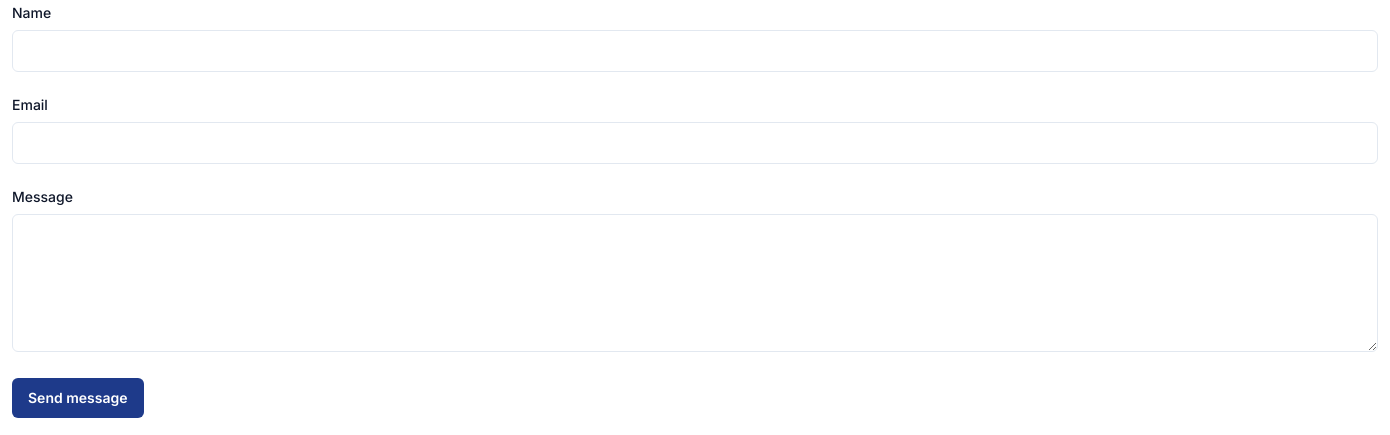
ContactForm › submits and shows the success state
In the field labelled "Name": {"x": 695, "y": 51} [12,30,1378,72], type "Ana"
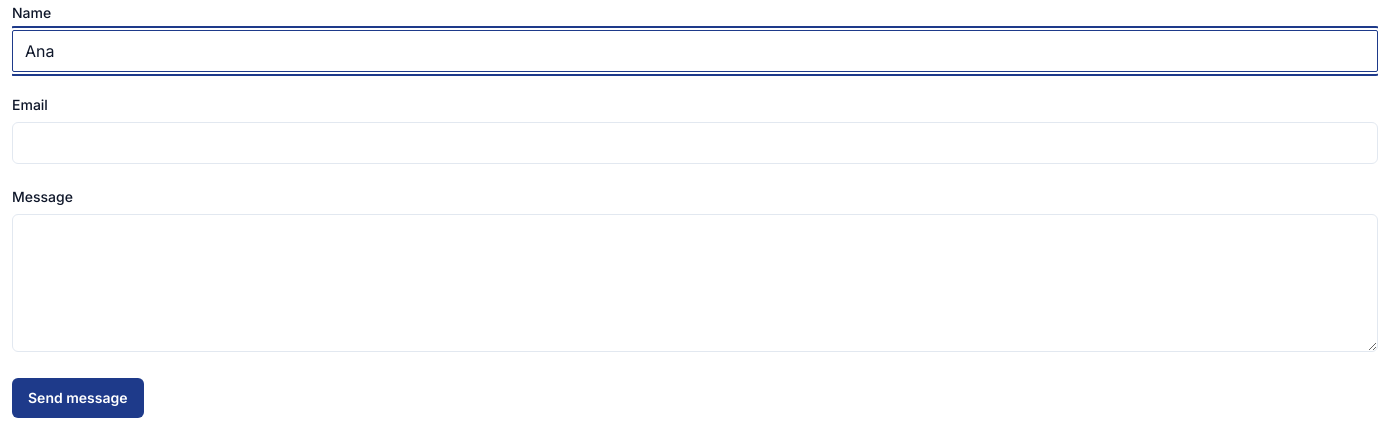
In the field labelled "Email": {"x": 695, "y": 143} [12,122,1378,164], type "ana@example.com"
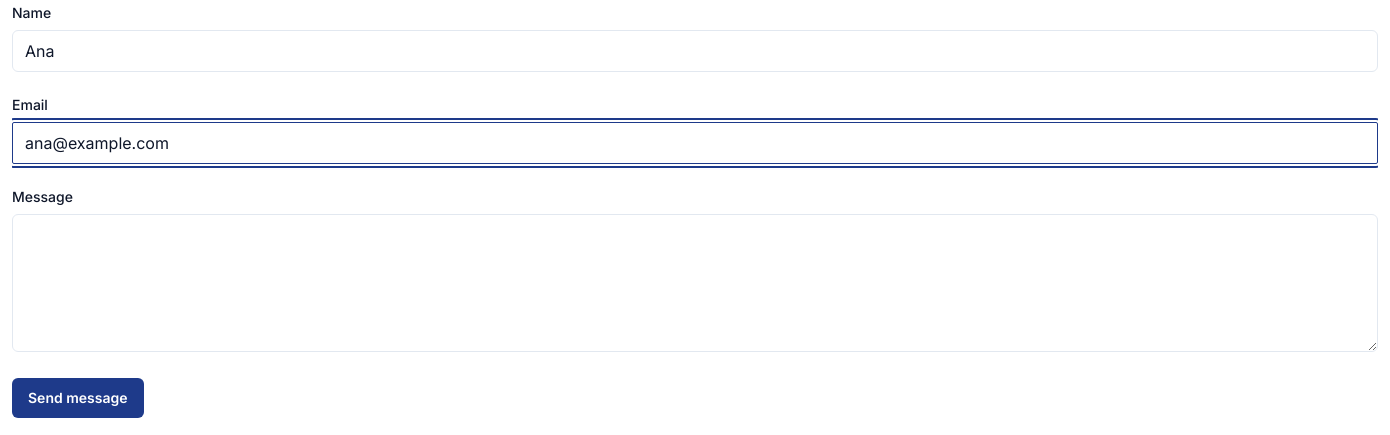
In the text box labelled "Message": {"x": 695, "y": 283} [12,214,1378,352], type "Hello, I have a platform role for you."
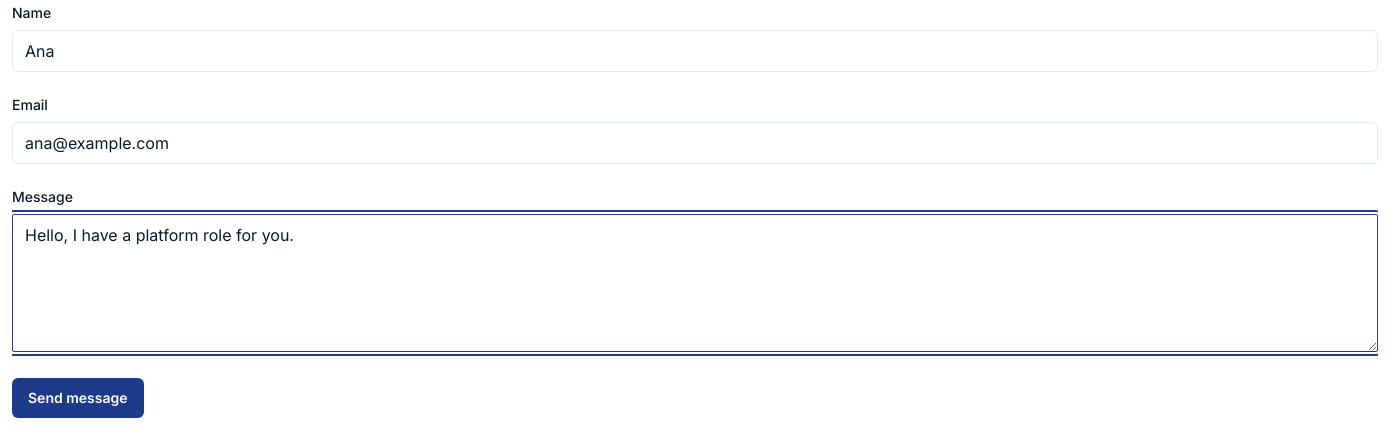
Click the button "Send message": {"x": 78, "y": 398} [12,378,144,418]
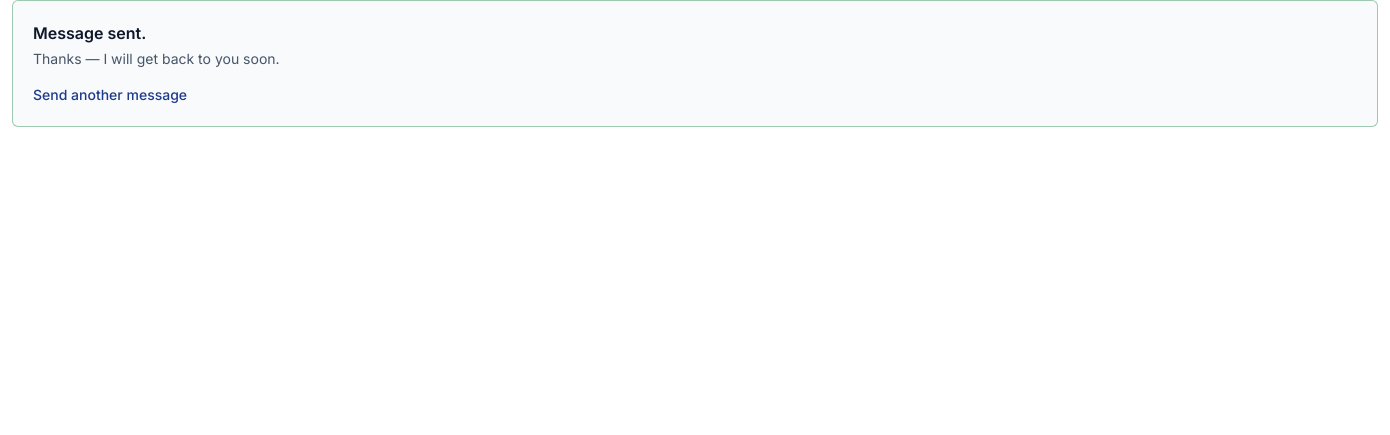
Expected: the message shows "Message sent.", [33,23,146,43]
